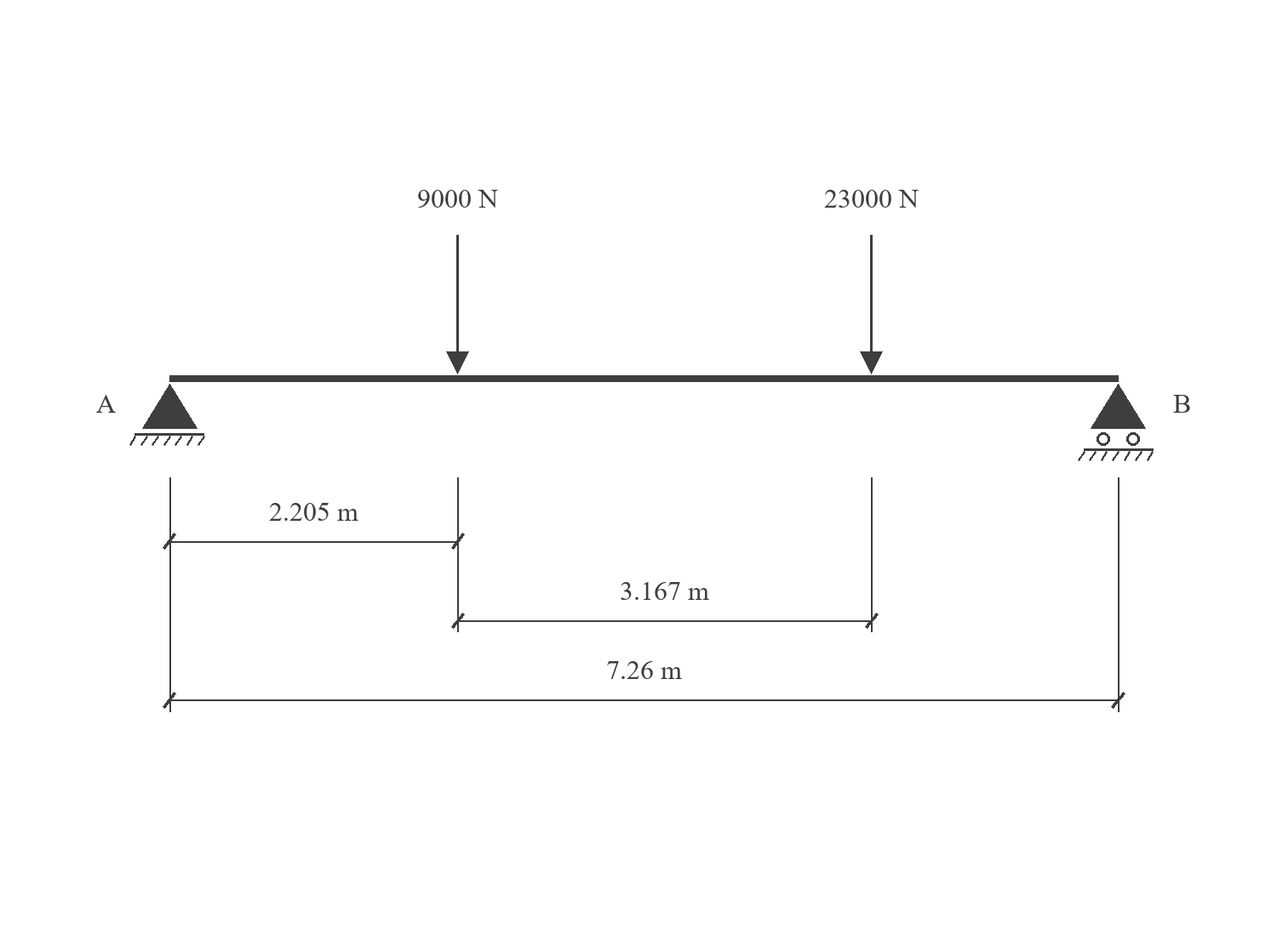pin_support: (129, 384, 205, 446)
point_load: (446, 235, 469, 374), (860, 235, 883, 374)
roller_support: (1078, 384, 1154, 461)
